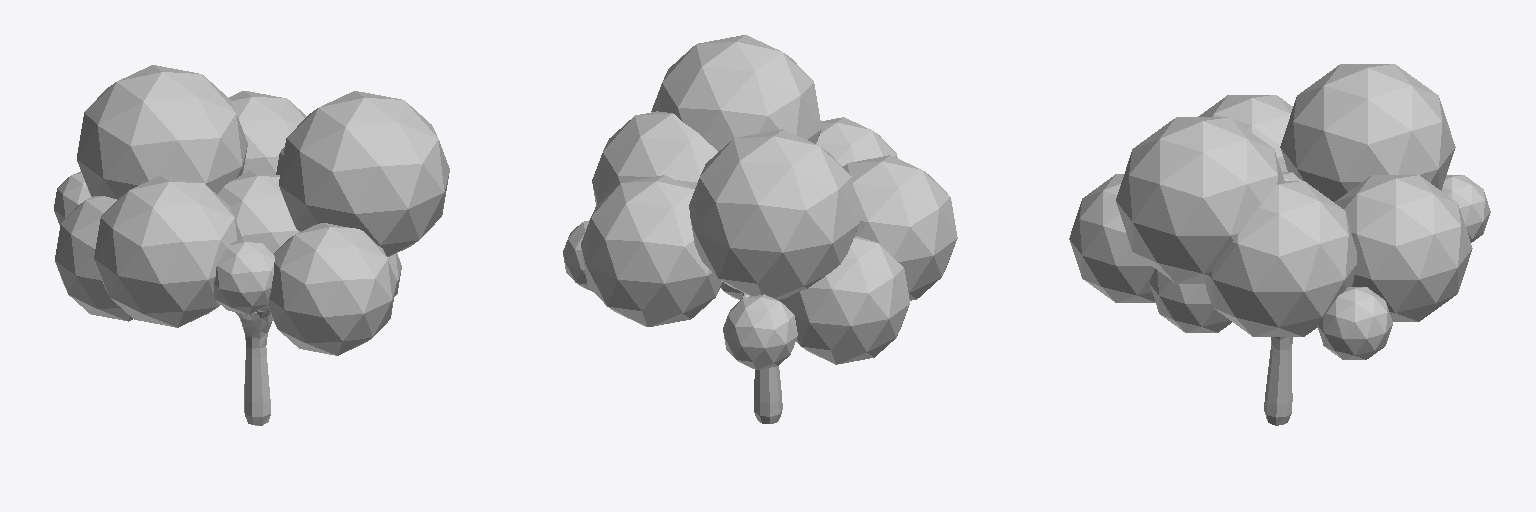
File: Tree.obj
3 renders of one model, left to right at view 1: azimuth 30°, elevation 25°; view 2: azimuth 150°, elevation 25°; view 3: azimuth 270°, elevation 25°, orthographic.
Visible parts, largest first — view 1: Icosphere, Cube; view 2: Icosphere, Cube; view 3: Icosphere, Cube.
Boxes of the visible parts, <box> form: Icosphere: <box>54,65,449,355</box>; Cube: <box>235,311,272,425</box>; Icosphere: <box>563,35,957,369</box>; Cube: <box>742,293,782,423</box>; Icosphere: <box>1069,64,1490,359</box>; Cube: <box>1264,337,1292,425</box>.
Bounding box in the file's own units: 0.8931 × 0.8801 × 0.9943.